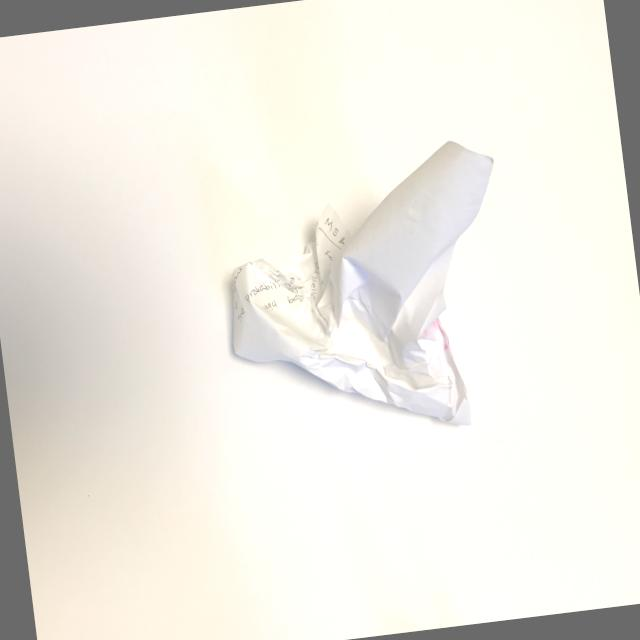Paper: (200, 126, 544, 476)
